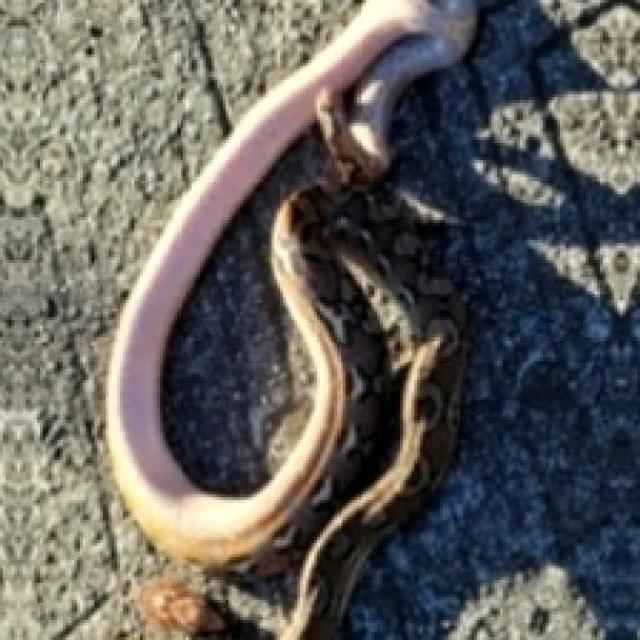reticulated python: (106, 0, 474, 637)
